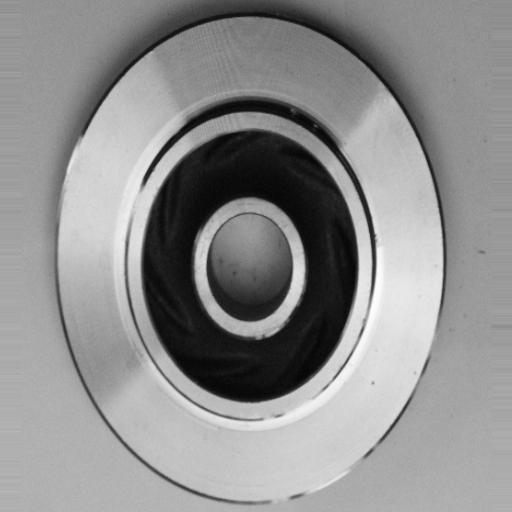scratch: (257, 462, 375, 512), (248, 389, 329, 439)
unpolished_casting: (54, 13, 445, 509)
